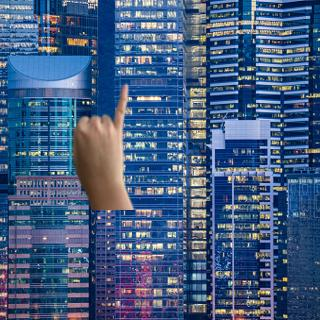FINE: (69, 80, 137, 196)
